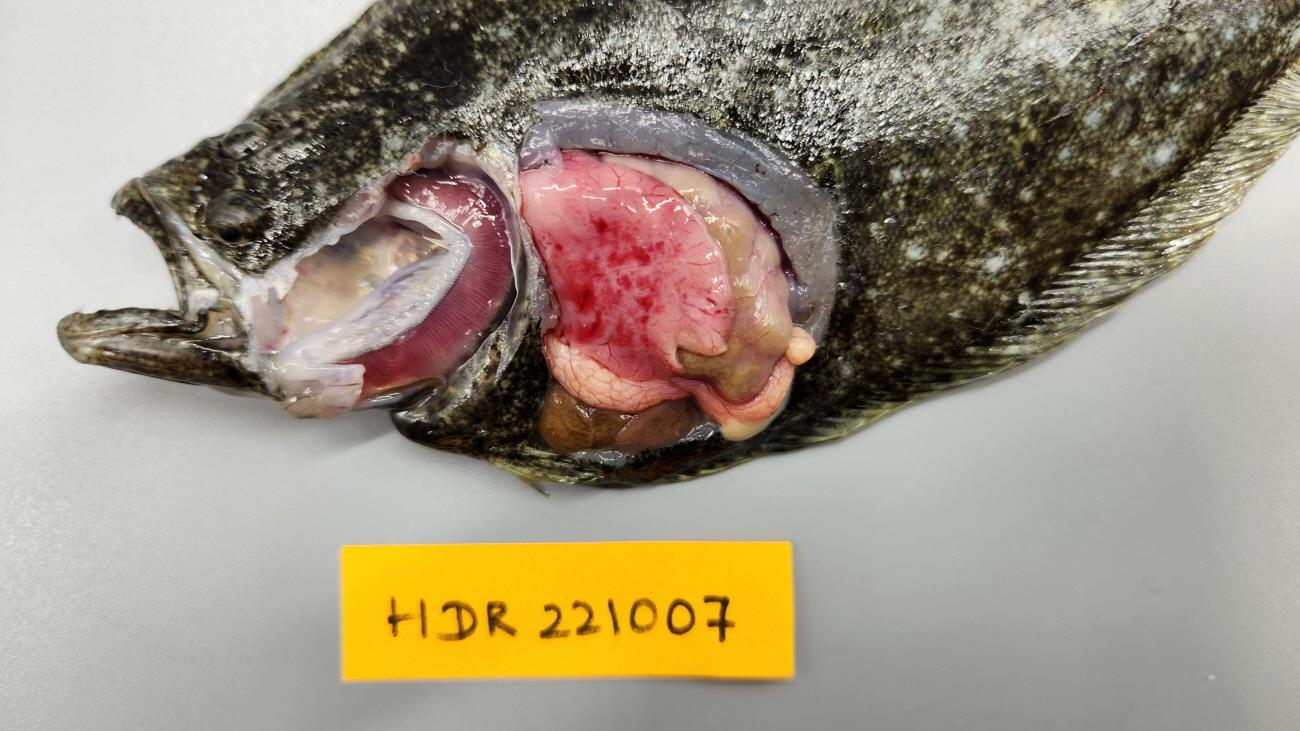POLIN: (520, 150, 735, 381)
